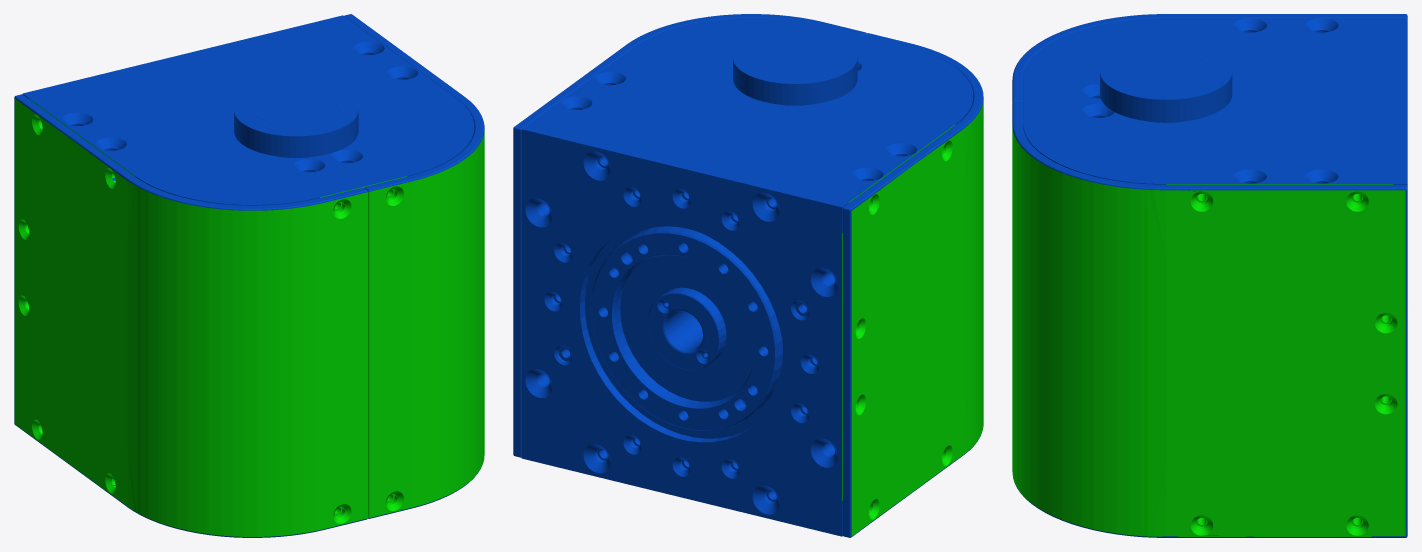
Rendered from WeMO_Leg_pelvis.dae.
3 views of the same model, side by side, from view 1: azimuth 30°, elevation 25°; view 2: azimuth 150°, elevation 25°; view 3: azimuth 270°, elevation 25° (orthographic). The views are drawn at different scales.
Parts seen in each view (by area): view 1: WeMO_Leg_pelvis; view 2: WeMO_Leg_pelvis; view 3: WeMO_Leg_pelvis.
Boxes of the visible parts, x1,y1,x2,y2 form: WeMO_Leg_pelvis: [14, 14, 484, 537]; WeMO_Leg_pelvis: [513, 14, 983, 537]; WeMO_Leg_pelvis: [1012, 14, 1407, 537].
Bounding box in the file's own units: 116 × 110 × 122.
